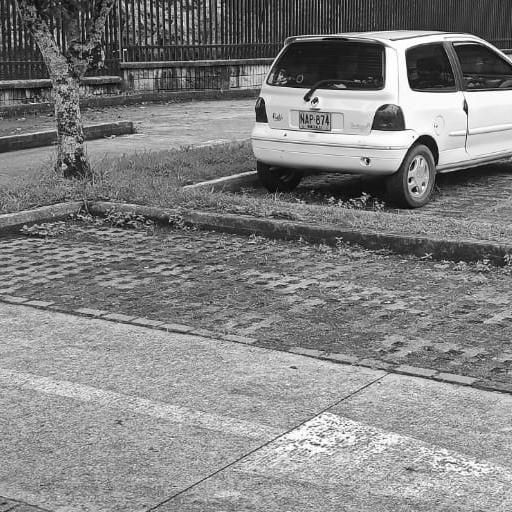placa: (298, 112, 330, 130)
